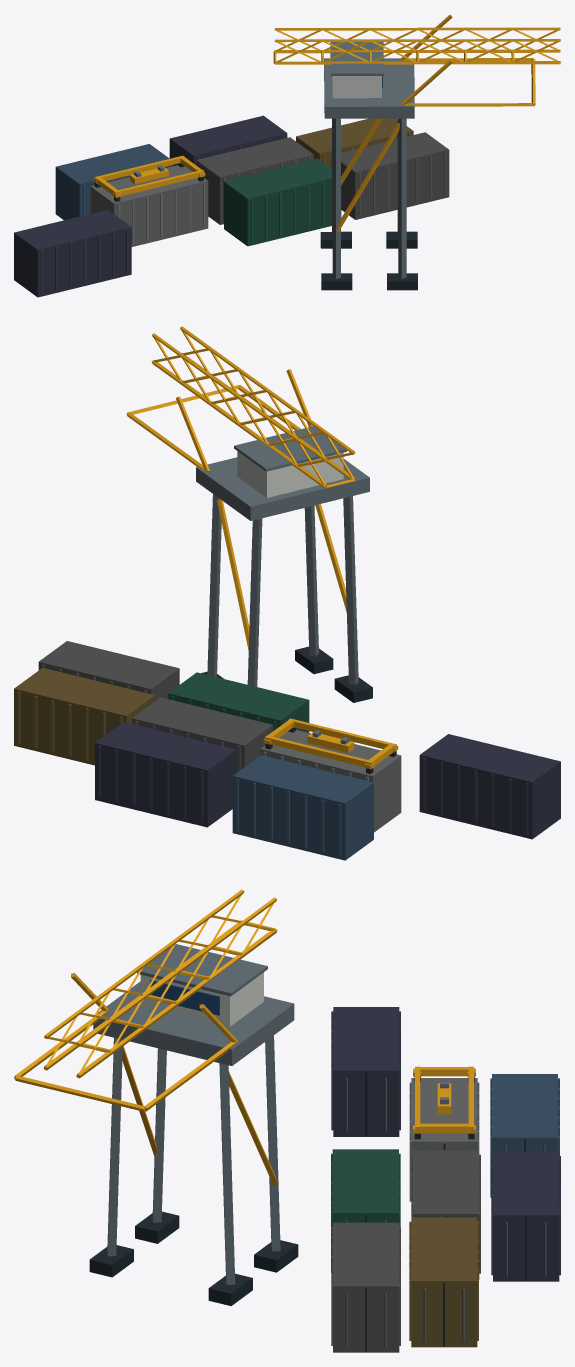
File: SeaportSystem-02-ShipToShoreGantryCrane-01-20Footer-4-06.glb
The picture shows the model from 3 angles, top to bottom: view 1: azimuth 30°, elevation 25°; view 2: azimuth 150°, elevation 25°; view 3: azimuth 270°, elevation 25°; orthographic projection. The views are drawn at different scales.
Visible parts, largest first — view 1: SeaportSystem-02-ShipToShoreGantryCrane-01-20Footer-4-06; view 2: SeaportSystem-02-ShipToShoreGantryCrane-01-20Footer-4-06; view 3: SeaportSystem-02-ShipToShoreGantryCrane-01-20Footer-4-06.
Boxes of the visible parts, x1,y1,x2,y2 form: SeaportSystem-02-ShipToShoreGantryCrane-01-20Footer-4-06: (14, 14, 560, 297); SeaportSystem-02-ShipToShoreGantryCrane-01-20Footer-4-06: (14, 326, 560, 860); SeaportSystem-02-ShipToShoreGantryCrane-01-20Footer-4-06: (14, 889, 560, 1352).
Size of the model in its own units: 60.76 by 31.18 by 47.91.
